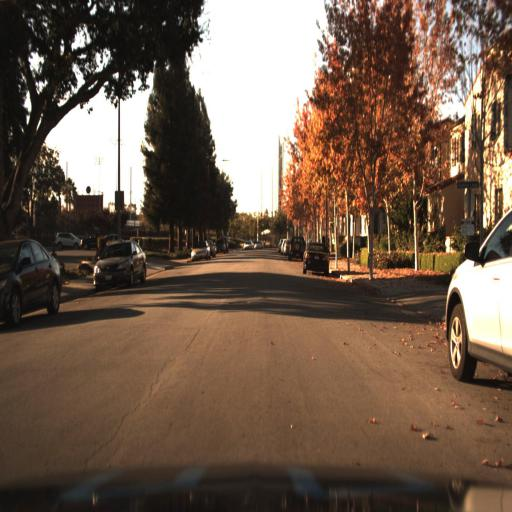car: (442, 201, 512, 392), (0, 234, 64, 327), (85, 230, 155, 302), (300, 236, 336, 278), (50, 230, 88, 260), (52, 228, 84, 256), (189, 235, 213, 262), (288, 232, 304, 265), (214, 236, 228, 256)
